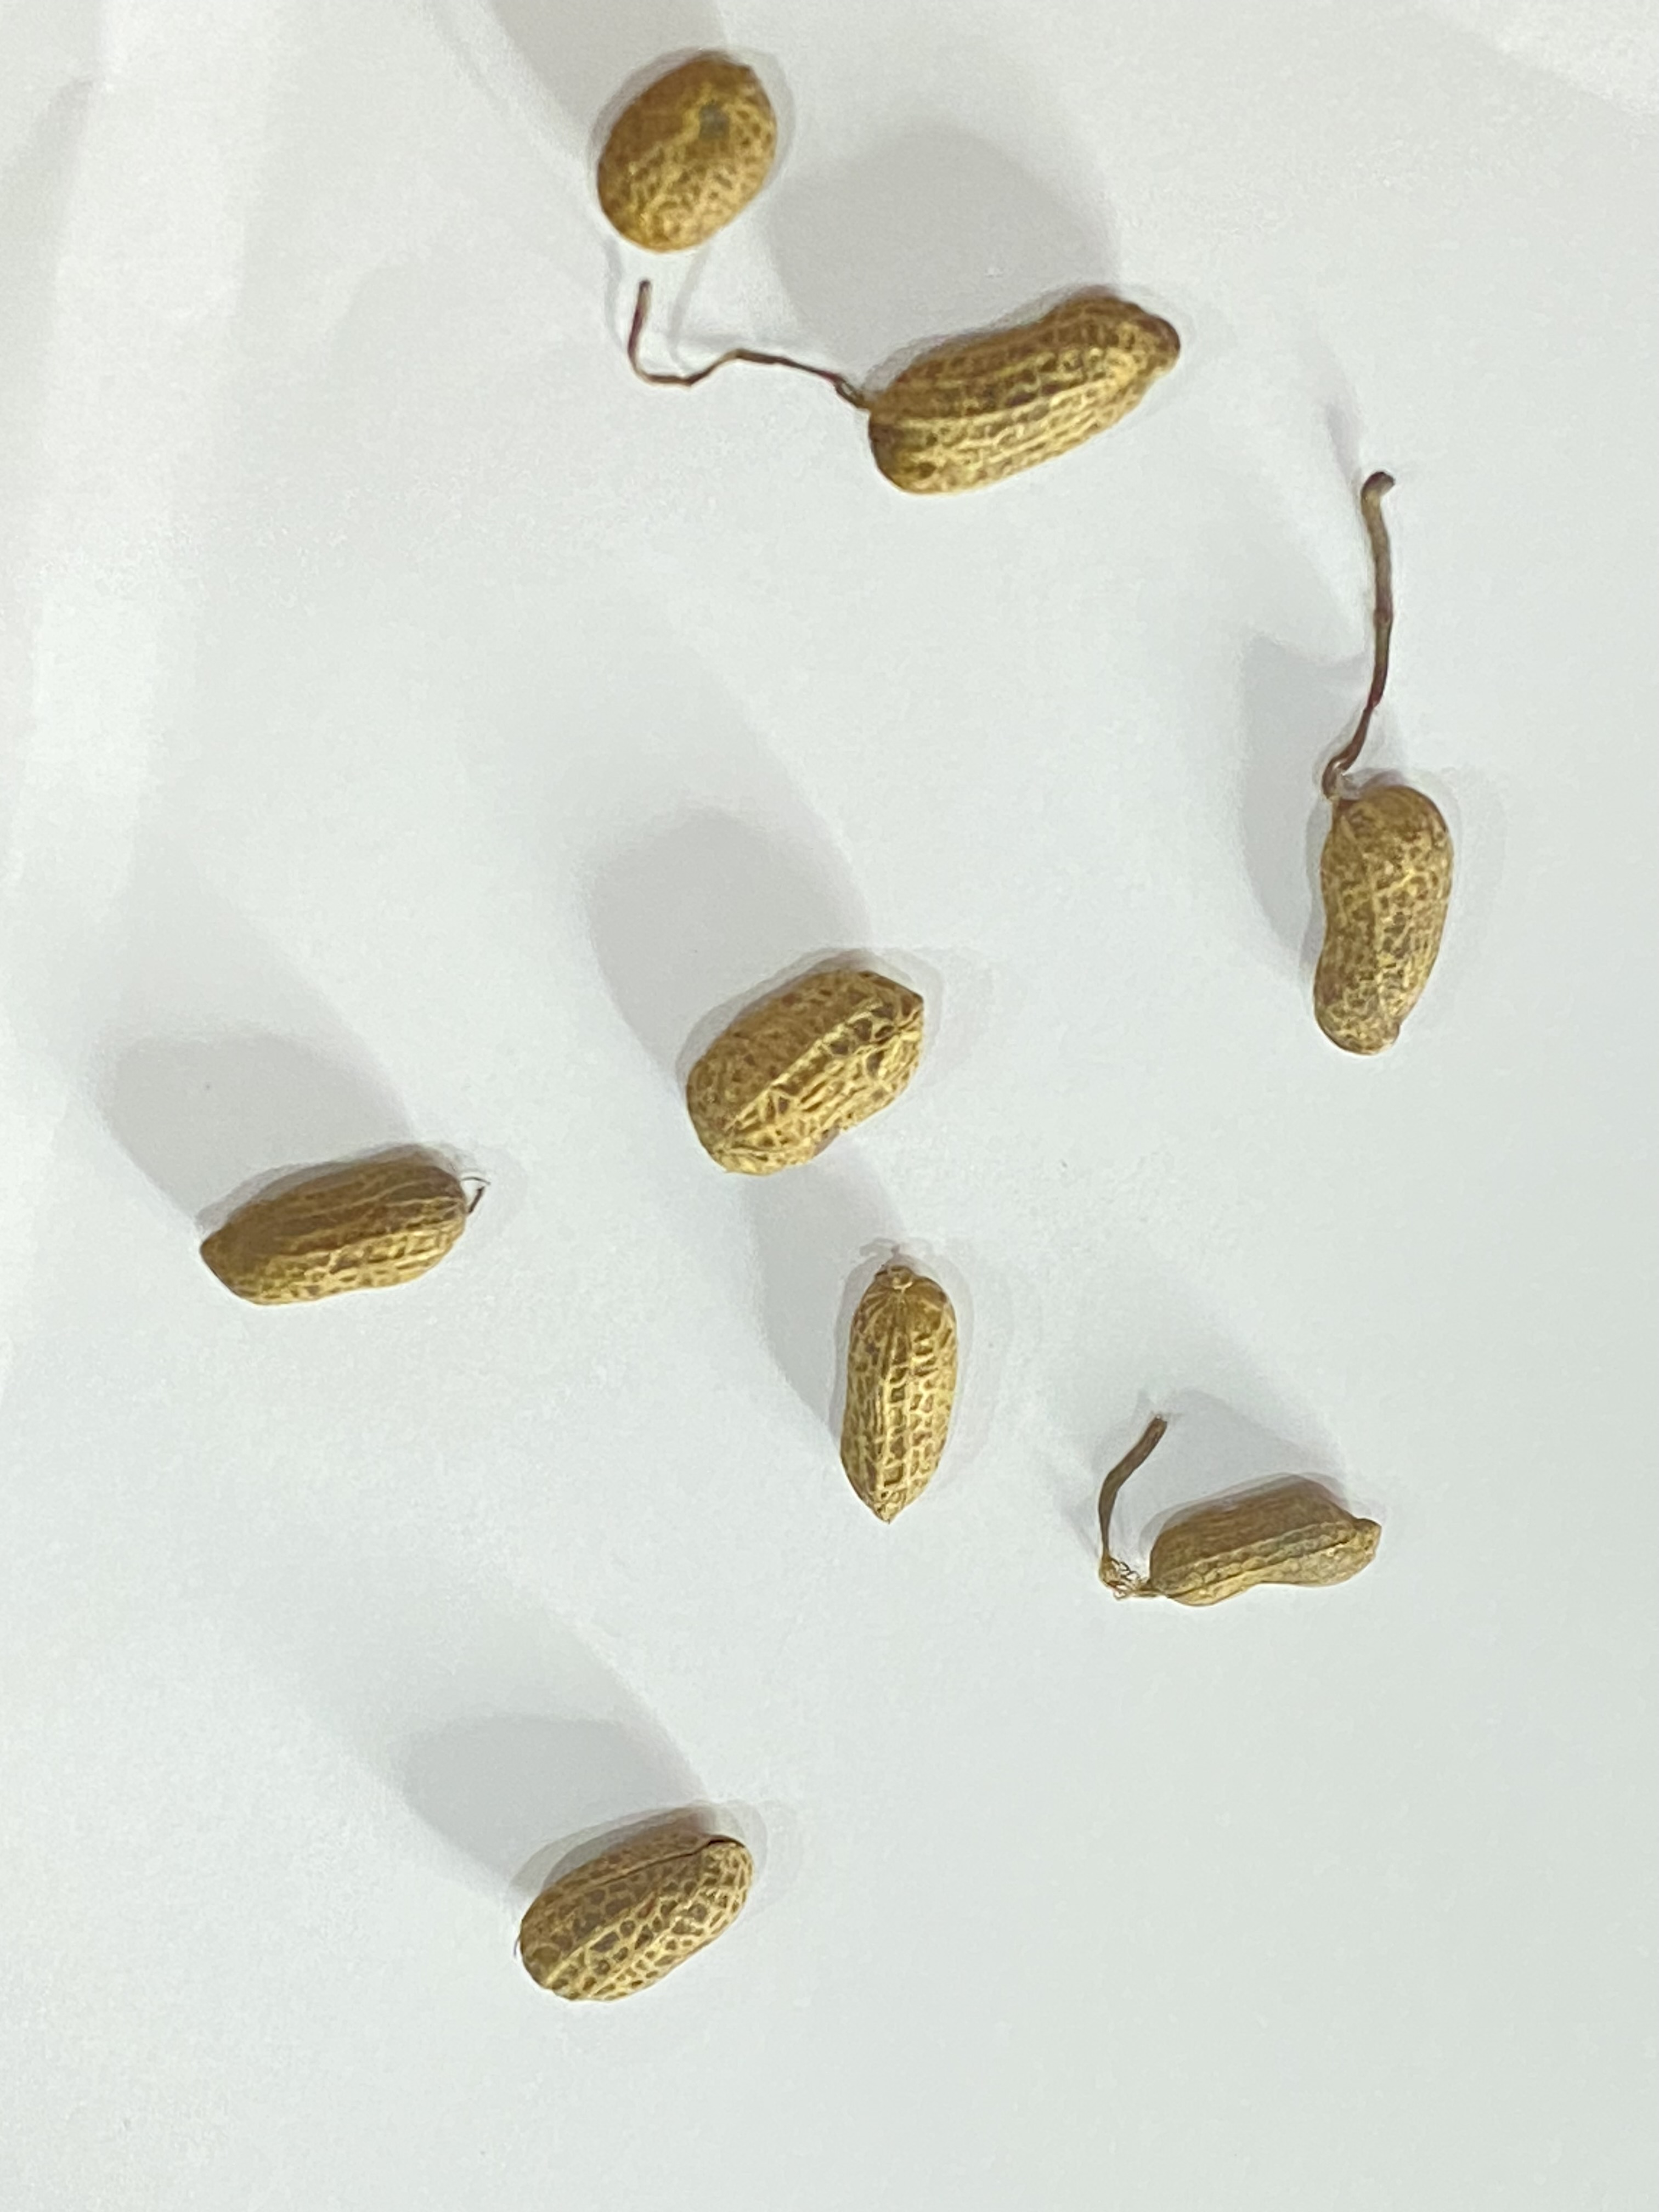kacang1: (687, 961, 927, 1176), (512, 1831, 756, 2001), (594, 63, 791, 254)
kacang2: (866, 300, 1182, 498), (1307, 784, 1455, 1055), (200, 1163, 469, 1308), (842, 1263, 960, 1521), (1148, 1494, 1382, 1606)
